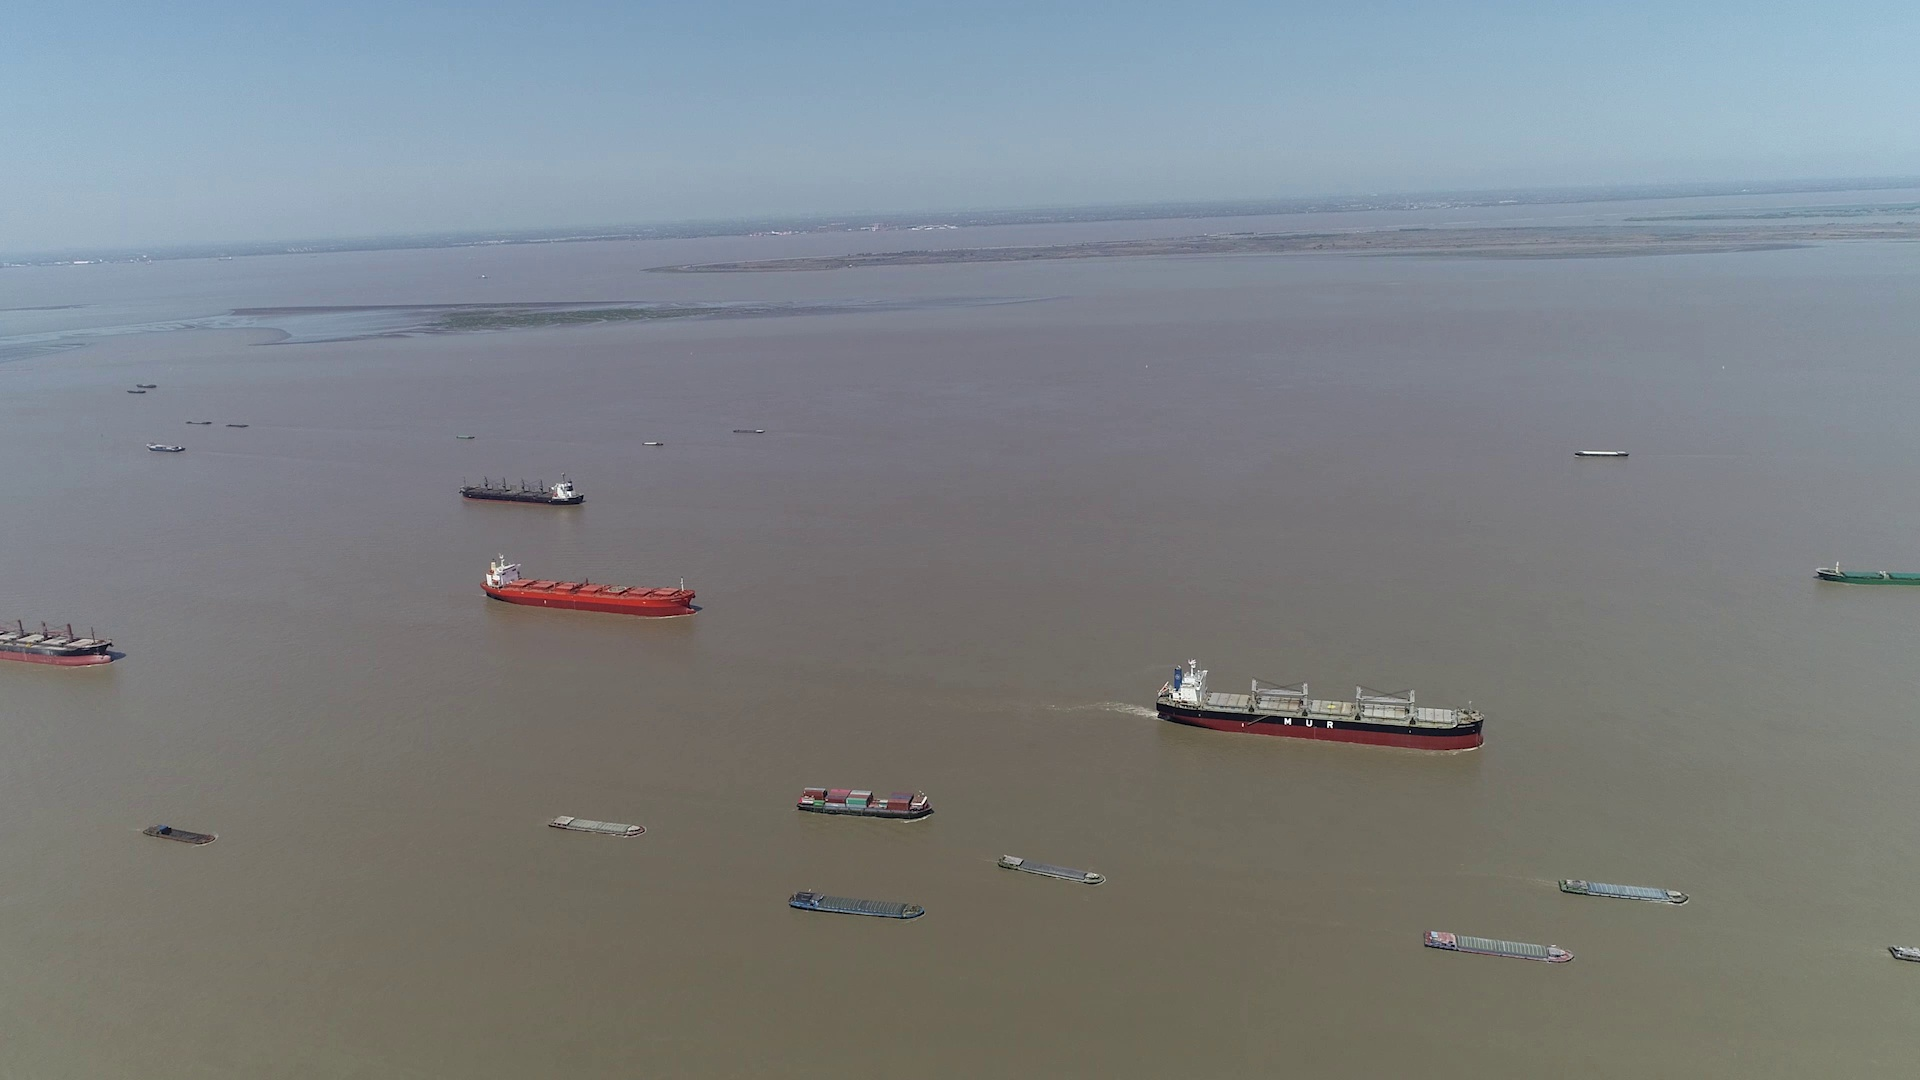ship: (1159, 661, 1487, 752), (484, 554, 696, 617), (0, 597, 119, 667), (1423, 930, 1572, 963), (787, 887, 928, 922), (795, 786, 934, 820), (462, 473, 585, 505), (1000, 853, 1108, 887), (1561, 876, 1687, 903), (1815, 560, 1920, 585), (549, 814, 644, 837), (145, 823, 216, 844), (1884, 942, 1917, 967), (1573, 448, 1630, 458), (149, 442, 186, 454)
